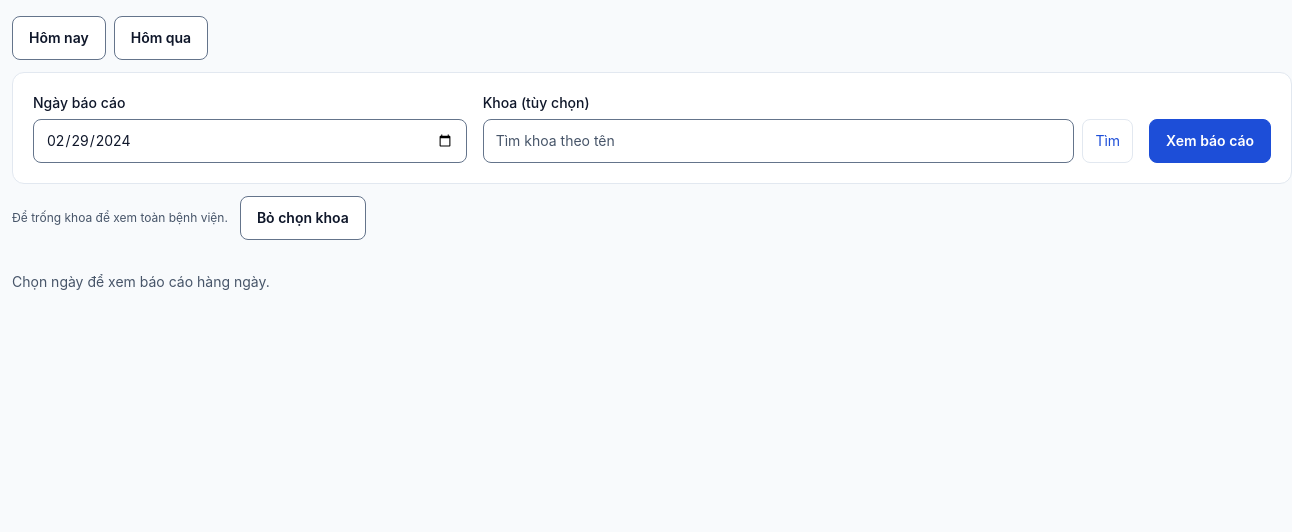
Test: Report shared department selection › sends the selected UUID and uses the dashboard directory for result scope
Type "Nội" into the field labelled "Khoa (tùy chọn)" at (778,141), box [483, 119, 1074, 163]
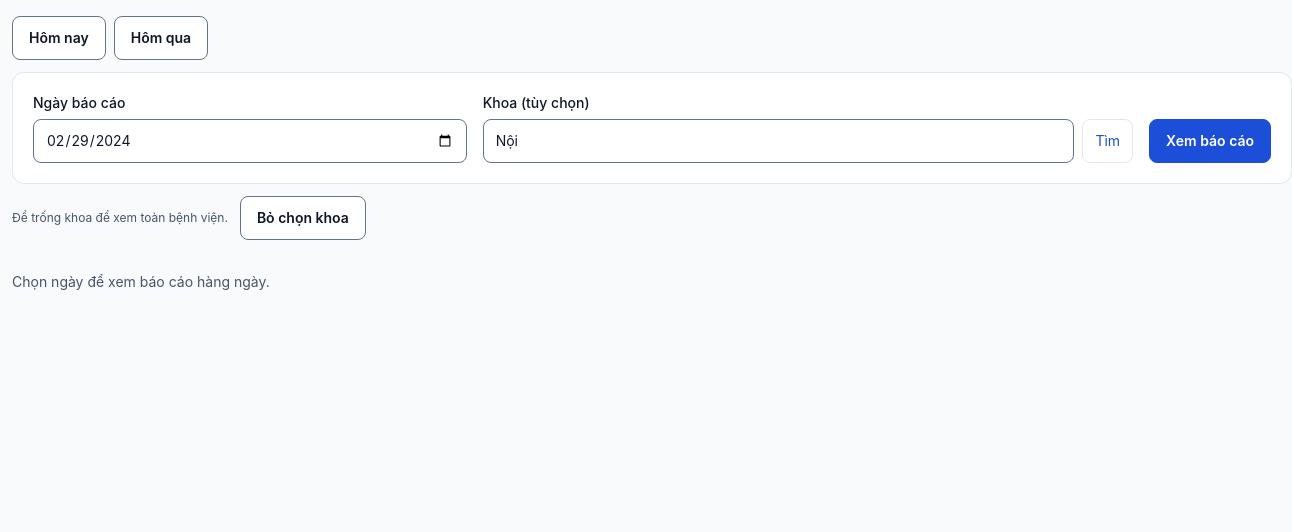
Click the button with aria-label "Tìm lựa chọn" at (1108,141), box [1082, 119, 1133, 163]
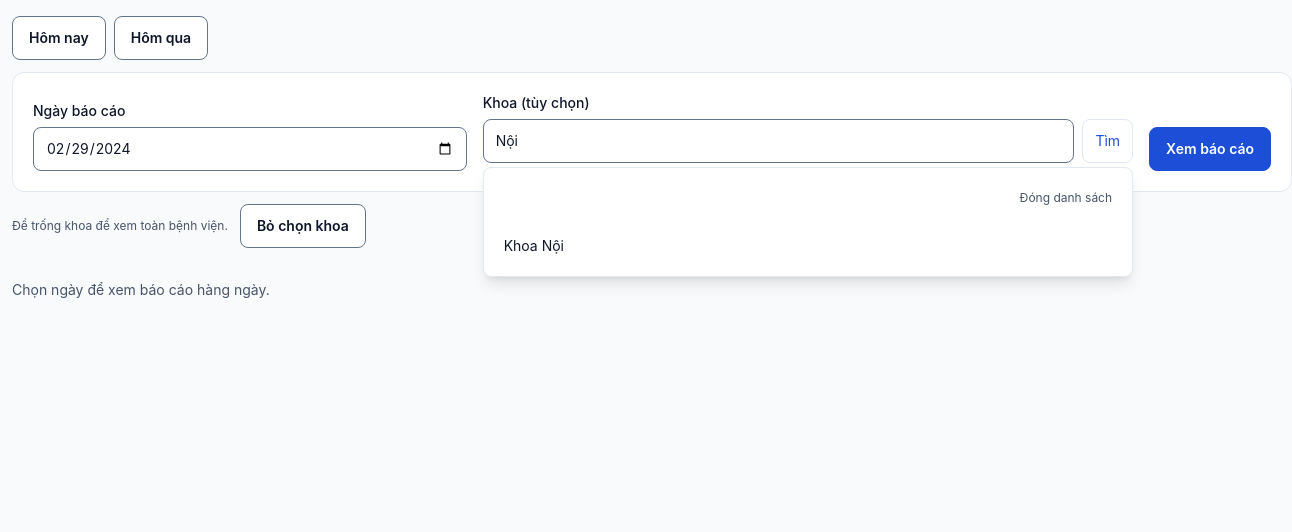
Click the button "Khoa Nội" at (534,246), box [492, 224, 1124, 268]
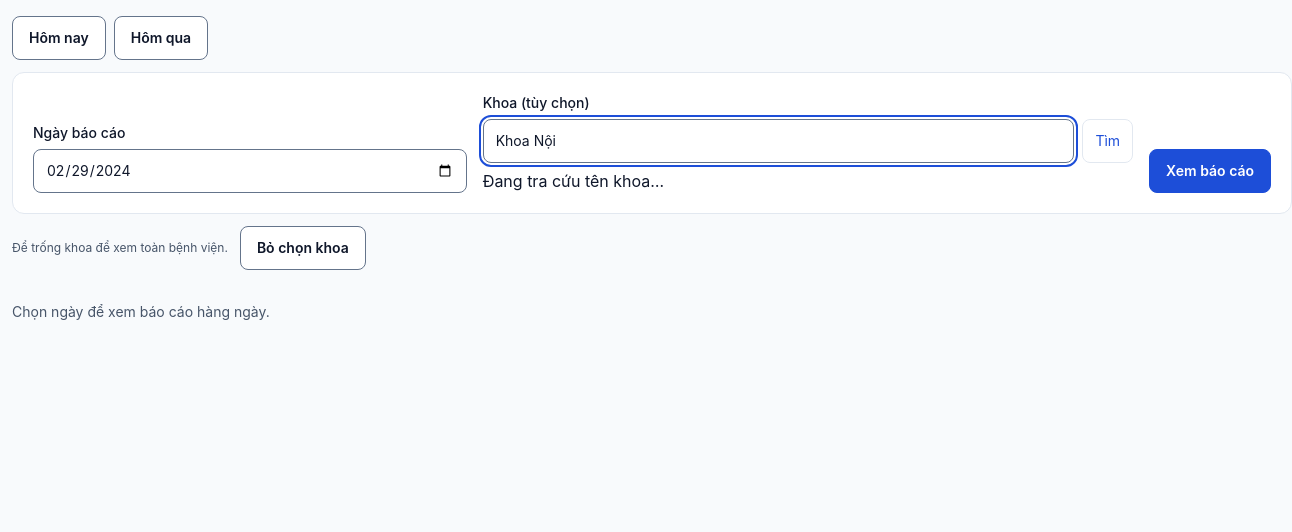
Submit the form labelled "Ngày báo cáo", box [12, 72, 1291, 214]
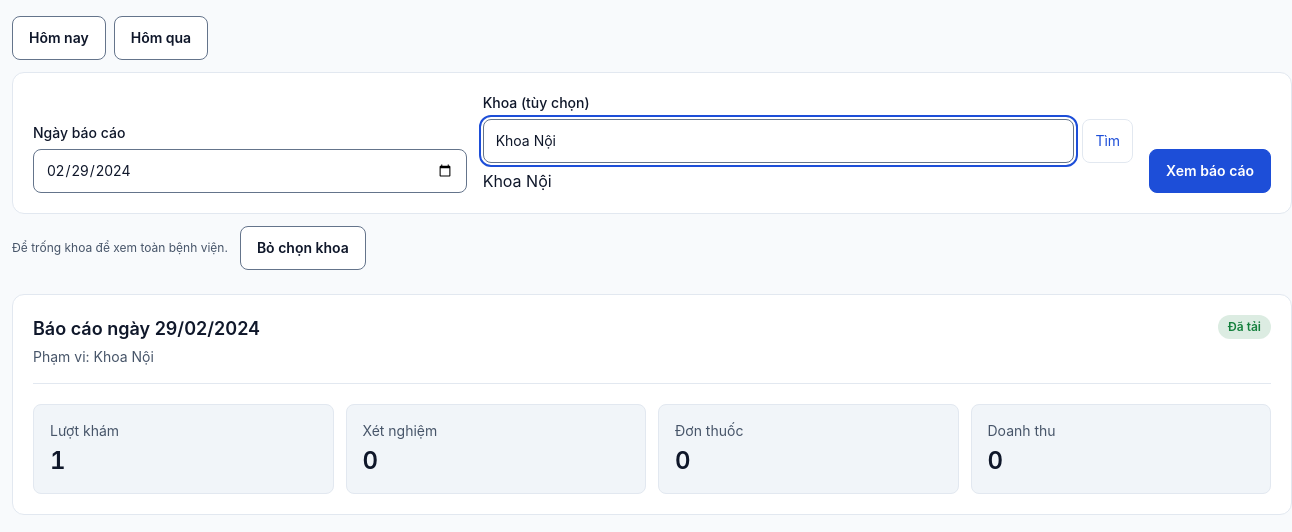
expect the heading "Báo cáo ngày 29/02/2024" is shown: met, box [33, 315, 260, 343]
